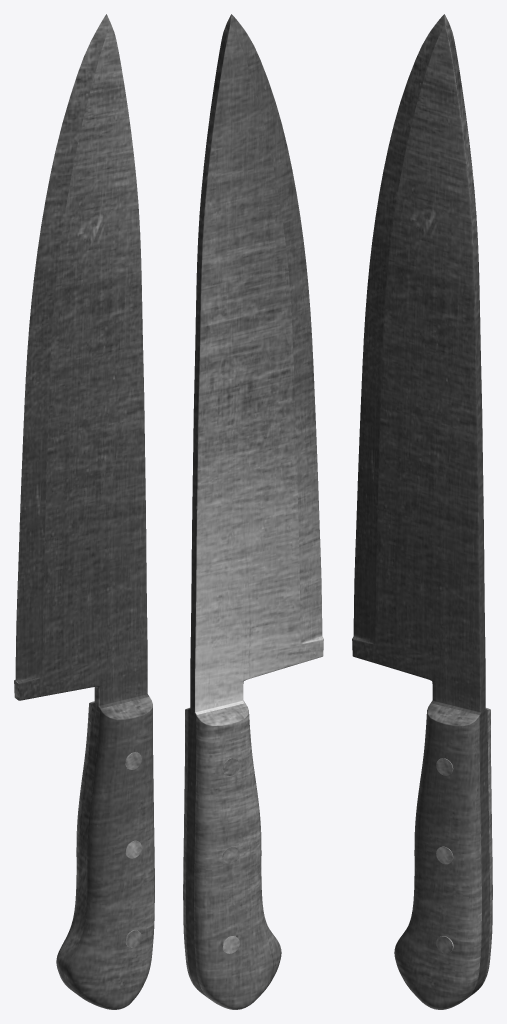
The picture shows the model from 3 angles, left to right: view 1: azimuth 30°, elevation 25°; view 2: azimuth 210°, elevation 25°; view 3: azimuth 330°, elevation 25°; orthographic projection.
Bounding box in the file's own units: 0.1401 × 1 × 0.0507.
